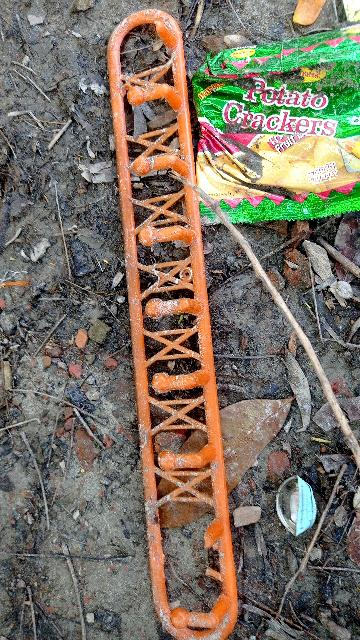hardplastic: (98, 2, 243, 640)
